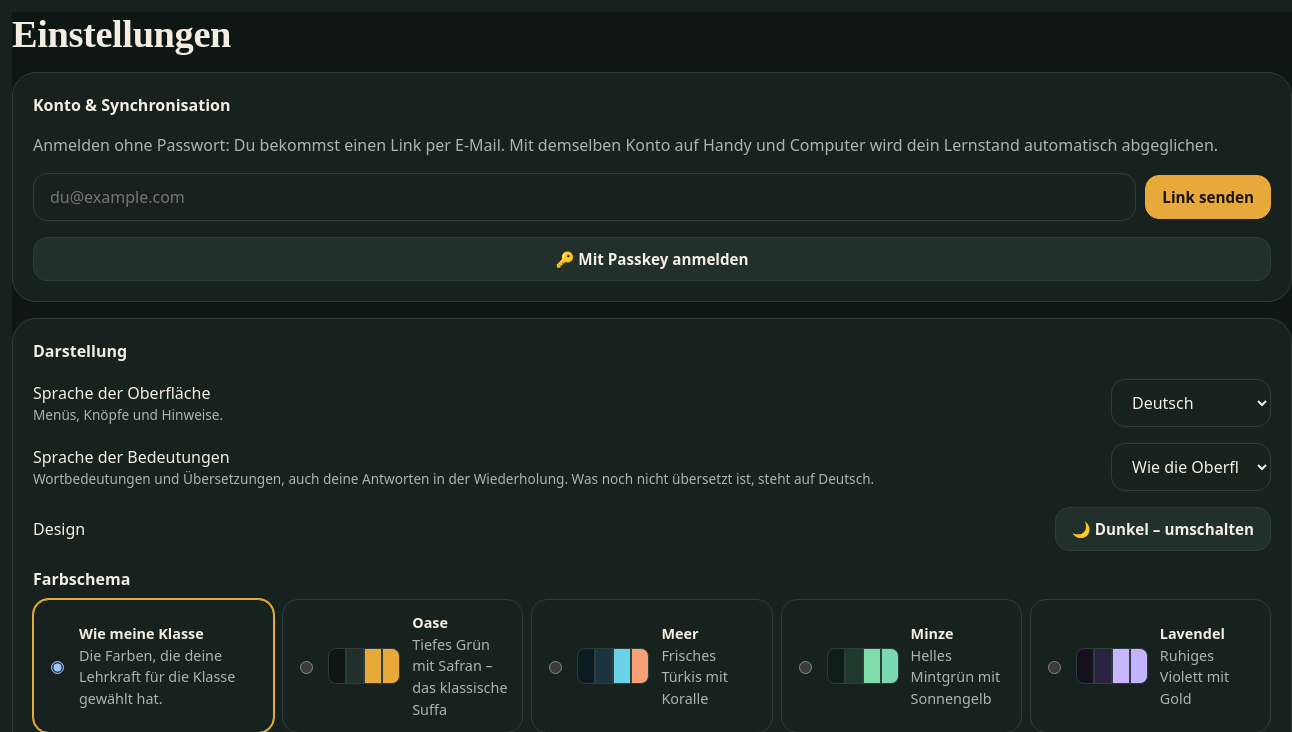
Test case: interface language (integration) › switches the settings page to English and stores the choice
Expected: the heading "Einstellungen" is shown, top-left (12, 13), bottom-right (231, 55)
Select "English" in the dropdown labelled "Sprache der Oberfläche Menüs, Knöpfe und Hinweise." at (1191, 403), box top-left (1111, 379), bottom-right (1271, 427)
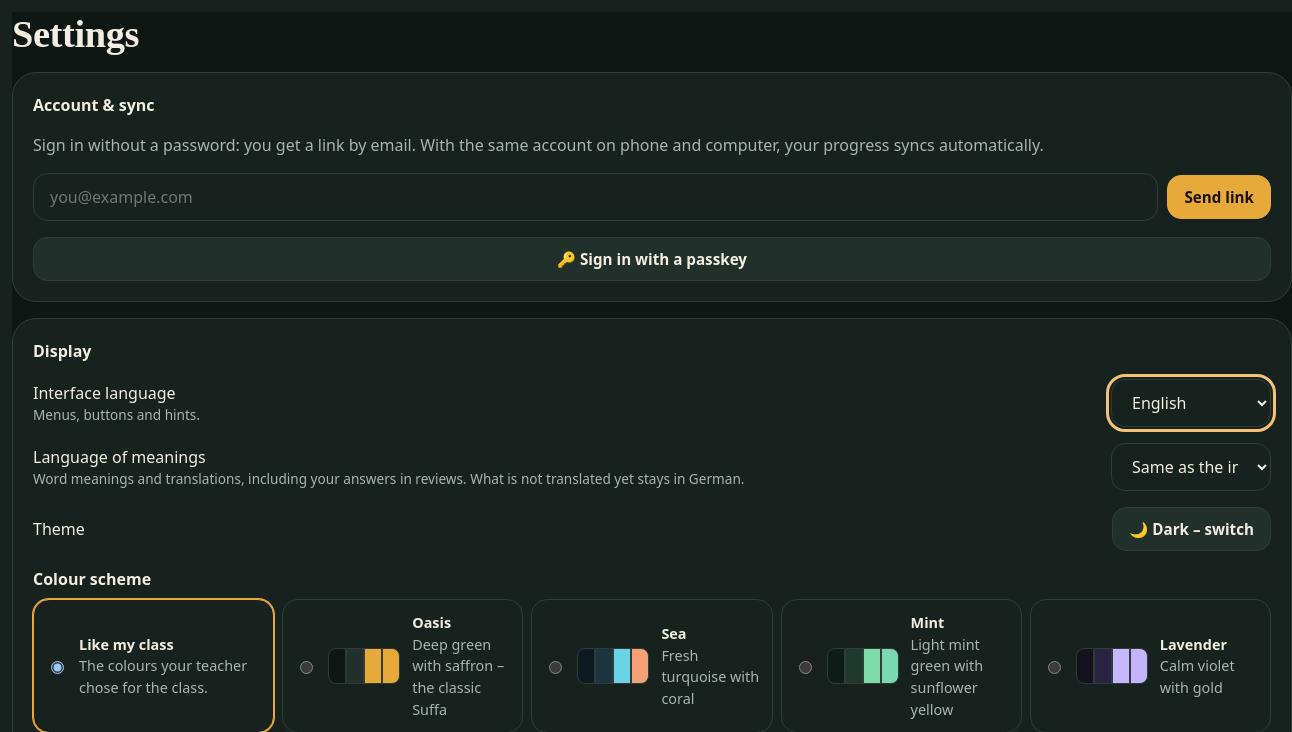
Now the heading "Settings" is shown, box top-left (12, 13), bottom-right (139, 55)
Now the text "Display" is shown, box top-left (33, 340), bottom-right (92, 362)
